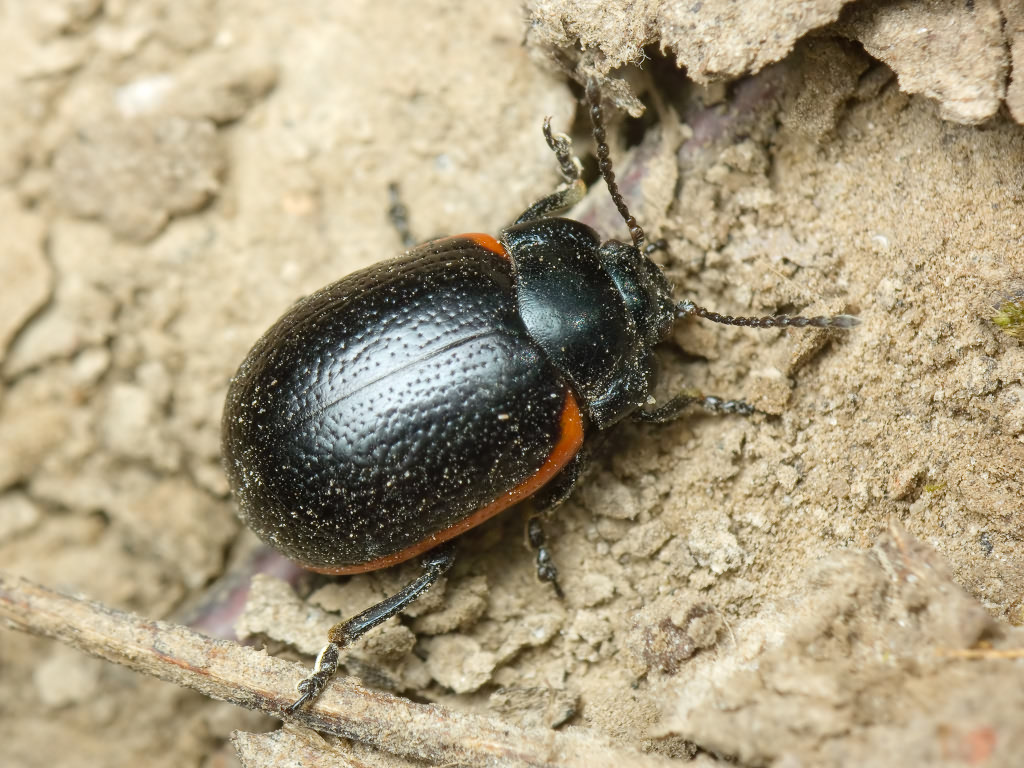Chrysolina_gypsophila: (212, 71, 873, 718)
